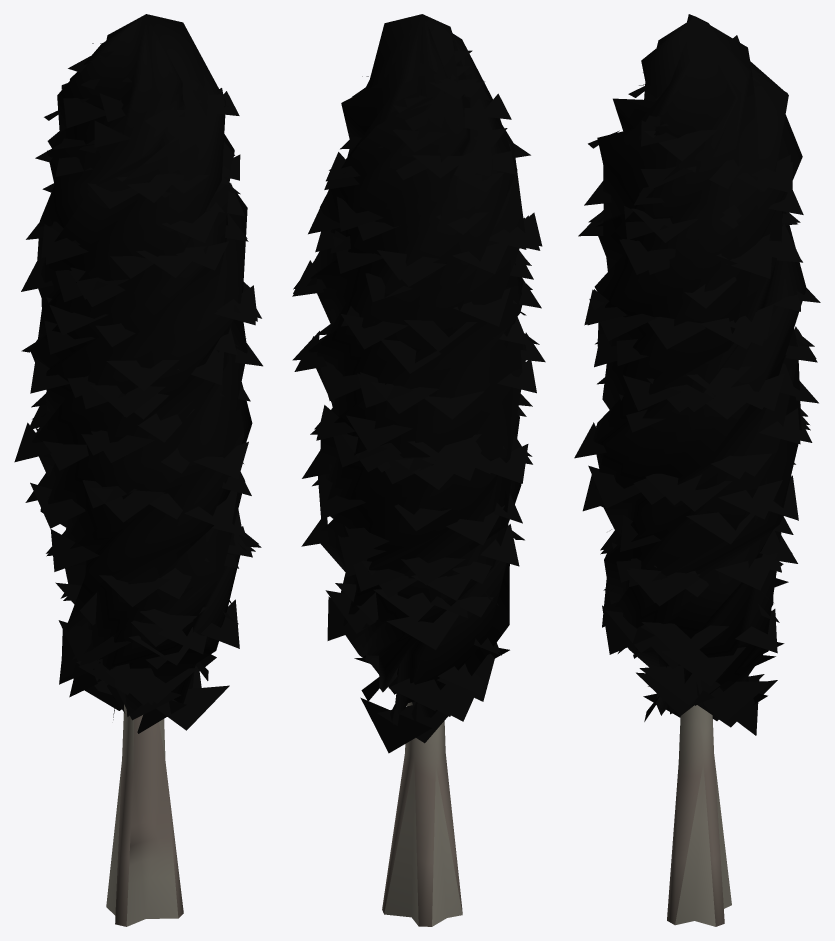
Rendered from Tree_5L.fbx.
3 renders of one model, left to right at view 1: azimuth 30°, elevation 25°; view 2: azimuth 150°, elevation 25°; view 3: azimuth 270°, elevation 25°, orthographic.
Visible parts, largest first — view 1: Tree_5L; view 2: Tree_5L; view 3: Tree_5L.
Boxes of the visible parts, x1=… form: Tree_5L: x1=14, y1=14, x2=262, y2=926; Tree_5L: x1=292, y1=14, x2=545, y2=926; Tree_5L: x1=574, y1=14, x2=820, y2=926.
Size of the model in its own units: 4.36 by 16.92 by 4.23.
